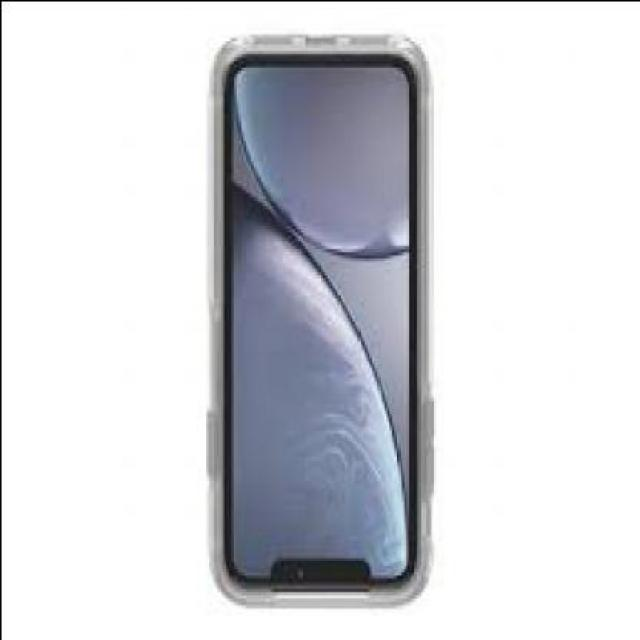phone: (207, 33, 430, 607)
